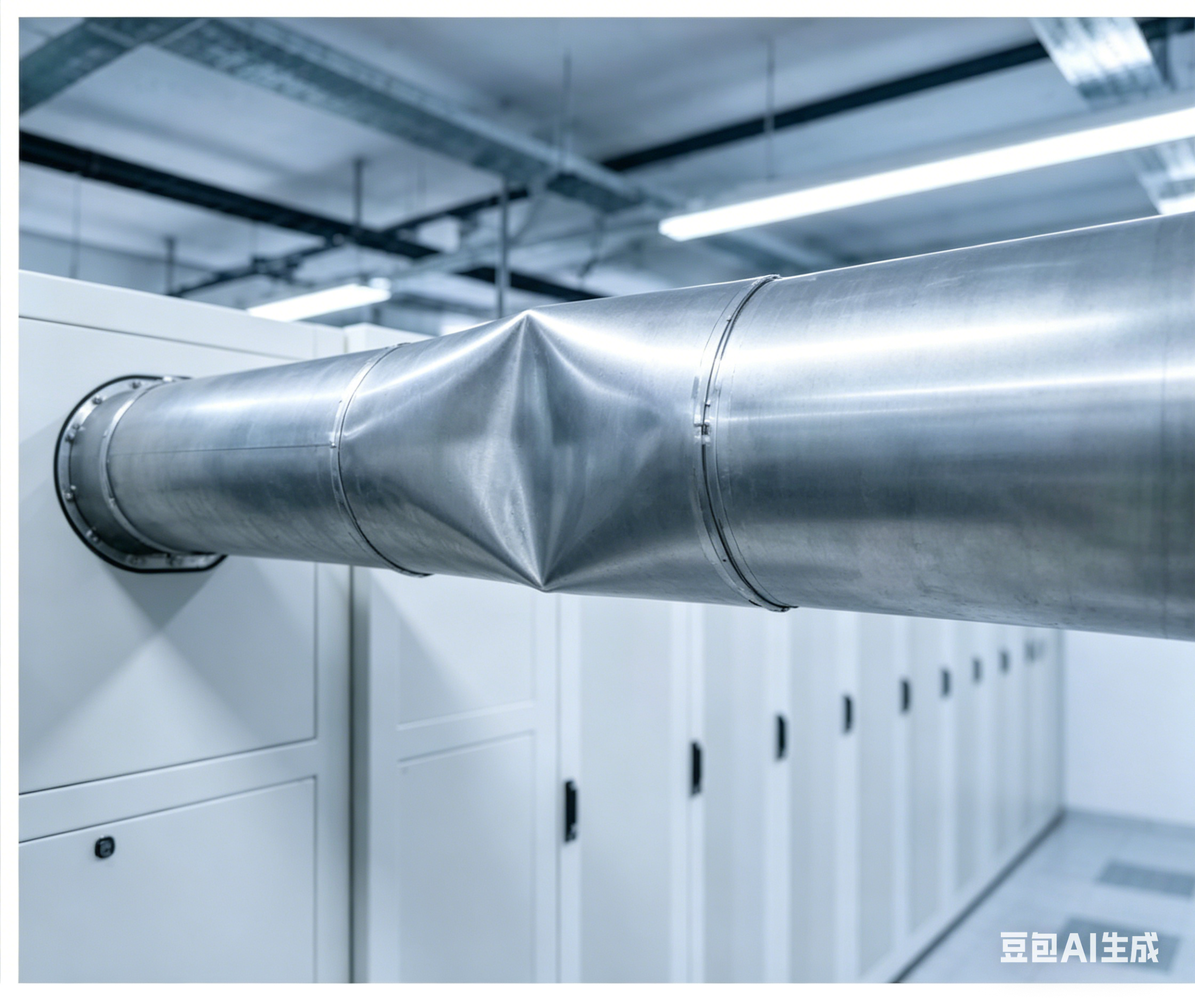Leakage: (409, 297, 677, 604)
